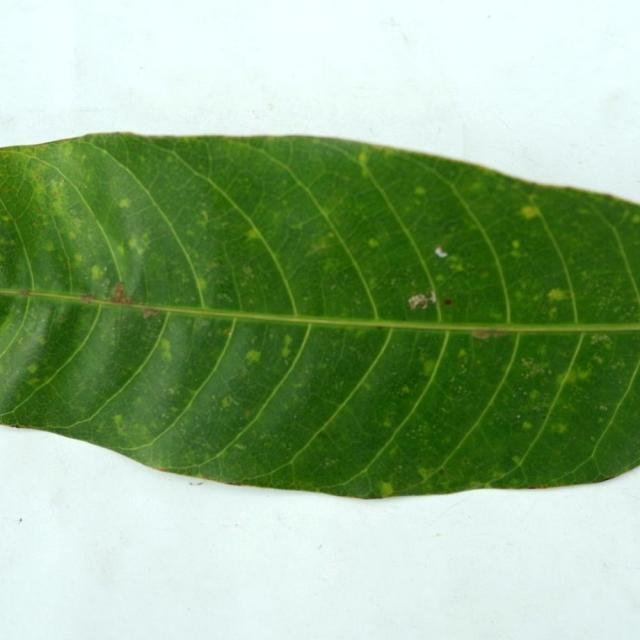Mango: (0, 134, 639, 498)
Powdery_Mildew: (218, 252, 271, 299), (10, 295, 66, 339), (583, 281, 640, 319), (208, 268, 242, 308), (117, 417, 152, 444), (409, 288, 448, 311), (515, 197, 545, 226), (519, 356, 550, 380), (49, 193, 71, 219), (356, 150, 373, 176), (158, 337, 173, 362), (322, 256, 341, 275), (508, 241, 528, 259), (560, 369, 582, 385), (446, 254, 465, 272), (546, 288, 570, 302), (280, 333, 294, 357), (110, 282, 126, 302), (589, 333, 612, 344), (244, 227, 262, 241), (245, 349, 261, 364), (90, 264, 104, 281), (549, 422, 568, 434), (422, 360, 436, 375), (379, 482, 394, 496), (143, 307, 160, 319), (128, 237, 142, 251), (417, 467, 433, 479), (471, 330, 492, 339), (79, 293, 96, 304), (70, 216, 83, 230), (50, 179, 65, 191), (576, 369, 592, 380), (221, 396, 234, 409), (521, 357, 534, 370), (195, 277, 207, 291), (101, 278, 112, 292), (43, 240, 55, 252), (198, 210, 209, 223), (26, 363, 38, 374), (320, 206, 332, 217), (548, 306, 559, 318), (118, 198, 131, 208), (19, 289, 33, 298), (529, 389, 540, 400), (382, 417, 393, 428), (414, 185, 426, 195), (367, 238, 379, 248), (115, 244, 125, 256), (435, 248, 447, 258), (512, 455, 523, 465), (457, 348, 468, 358), (113, 414, 123, 424), (221, 327, 232, 335), (234, 443, 246, 450), (511, 240, 520, 249), (522, 421, 532, 429), (435, 274, 445, 282), (196, 473, 207, 480), (68, 231, 77, 239), (401, 386, 410, 394), (1, 215, 11, 222), (167, 387, 176, 394), (599, 405, 608, 411), (635, 213, 640, 223), (33, 221, 41, 227)
